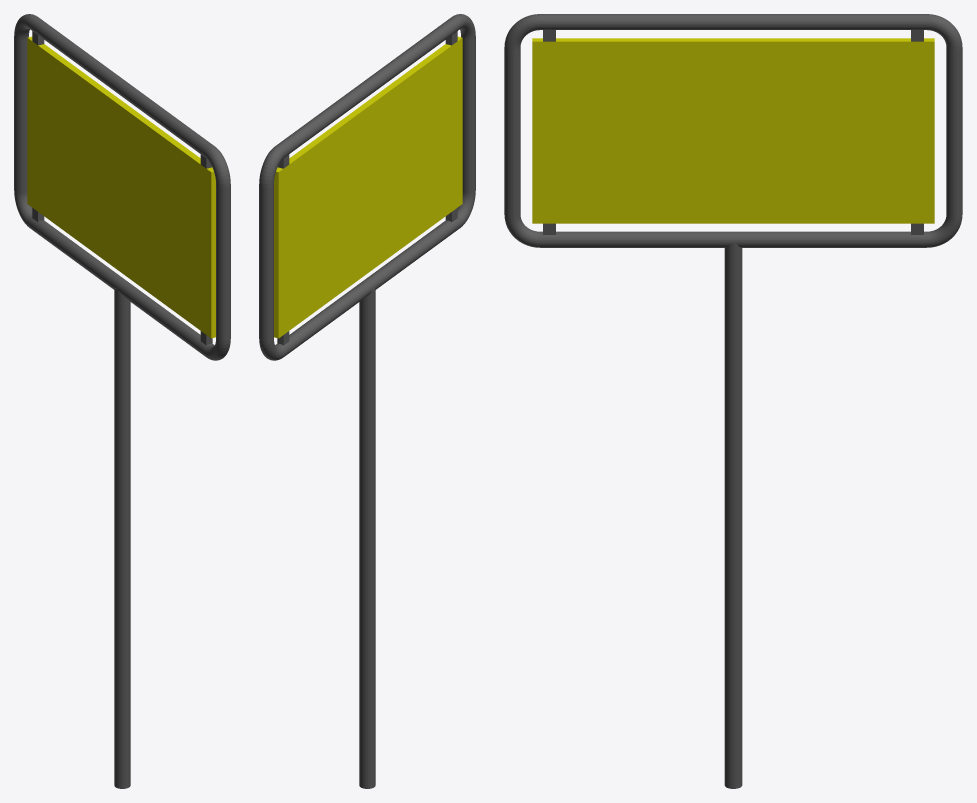
Rendered from Ortsschild.fbx.
3 renders of one model, left to right at view 1: azimuth 30°, elevation 25°; view 2: azimuth 150°, elevation 25°; view 3: azimuth 270°, elevation 25°, orthographic. The views are drawn at different scales.
Parts seen in each view (by area): view 1: Ortscchild, Ortsschild Gestänge; view 2: Ortscchild, Ortsschild Gestänge; view 3: Ortscchild, Ortsschild Gestänge.
Part boxes in pixels (<box>): Ortscchild: <box>27,31,215,345</box>; Ortsschild Gestänge: <box>14,14,230,788</box>; Ortscchild: <box>274,31,462,345</box>; Ortsschild Gestänge: <box>259,14,475,788</box>; Ortscchild: <box>532,30,934,234</box>; Ortsschild Gestänge: <box>504,14,962,788</box>.
Bounding box in the file's own units: 3.83 × 185 × 99.78.
